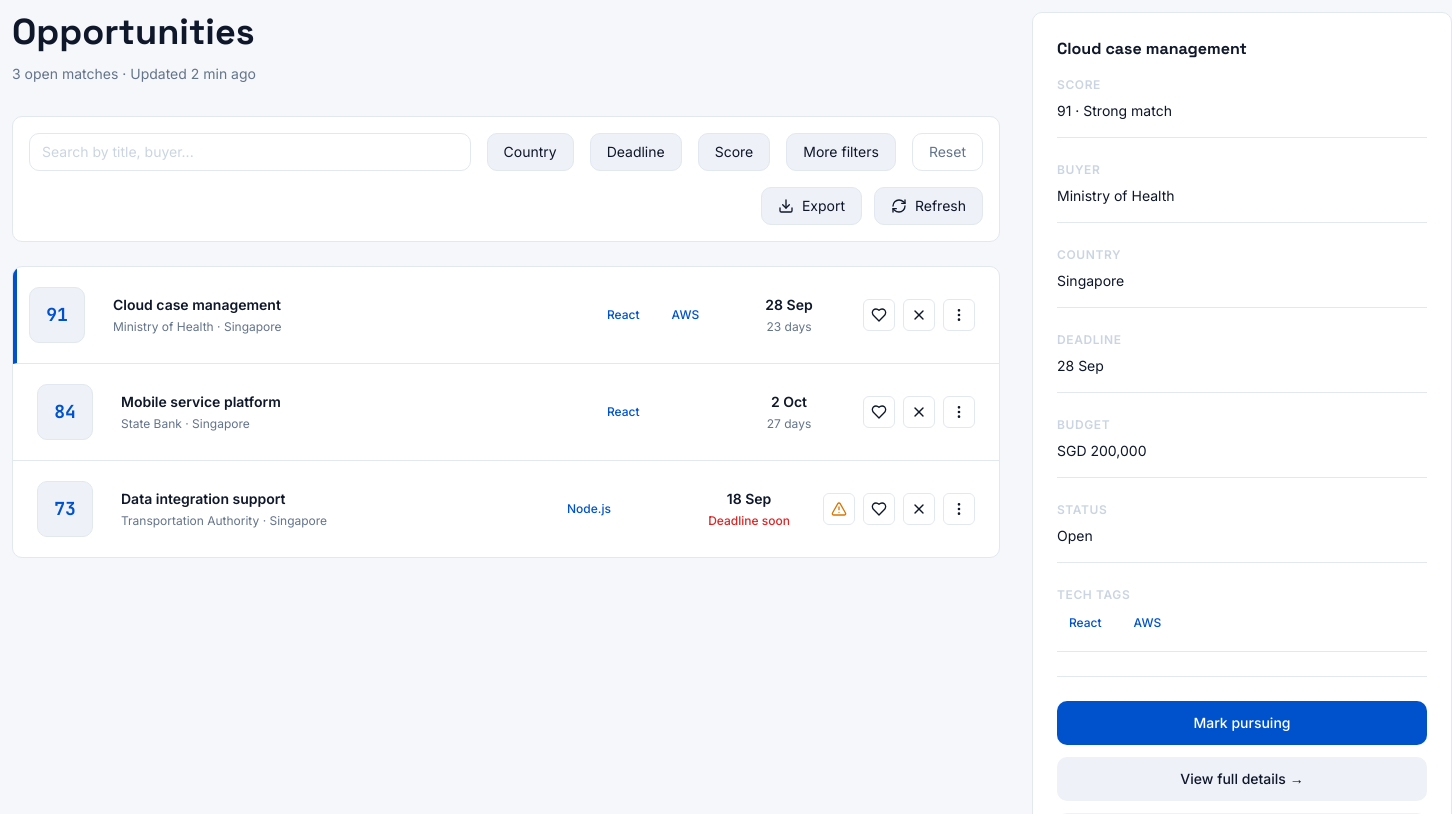
Test: InboxList › updates detail panel when selecting a different tender
Step 1. Click the text "Mobile service platform" → (201, 412), box top-left (121, 393), bottom-right (281, 431)
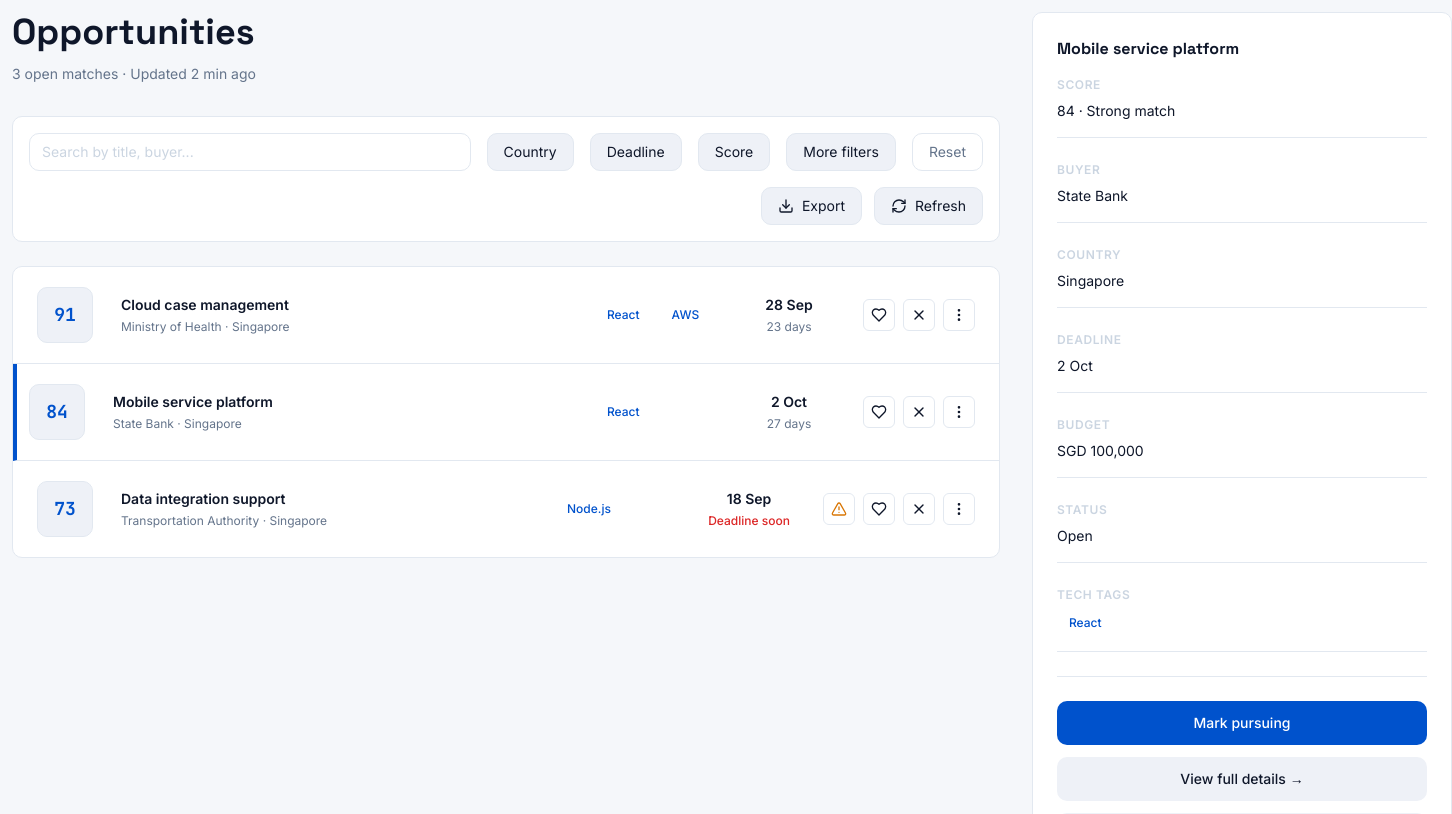
Expected: the text "State Bank" is shown, top-left (1057, 187), bottom-right (1128, 204)
